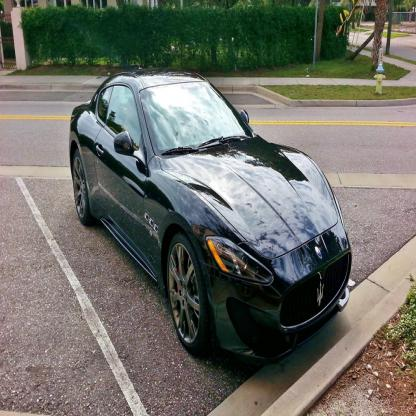Car: (69, 64, 352, 365)
